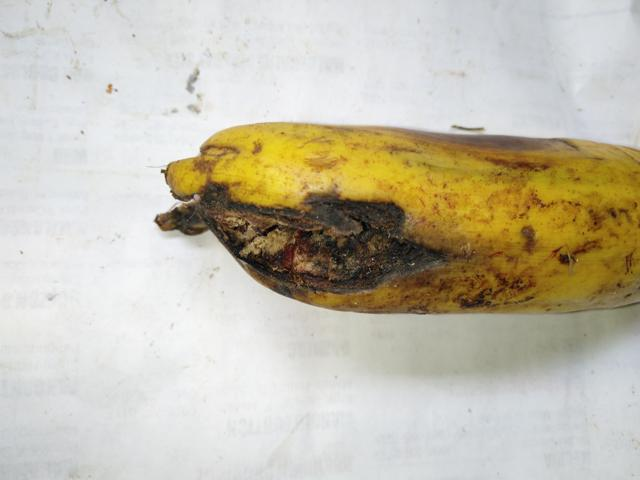ripe: (456, 116, 639, 323)
rotten: (120, 121, 437, 313), (372, 87, 560, 212)
